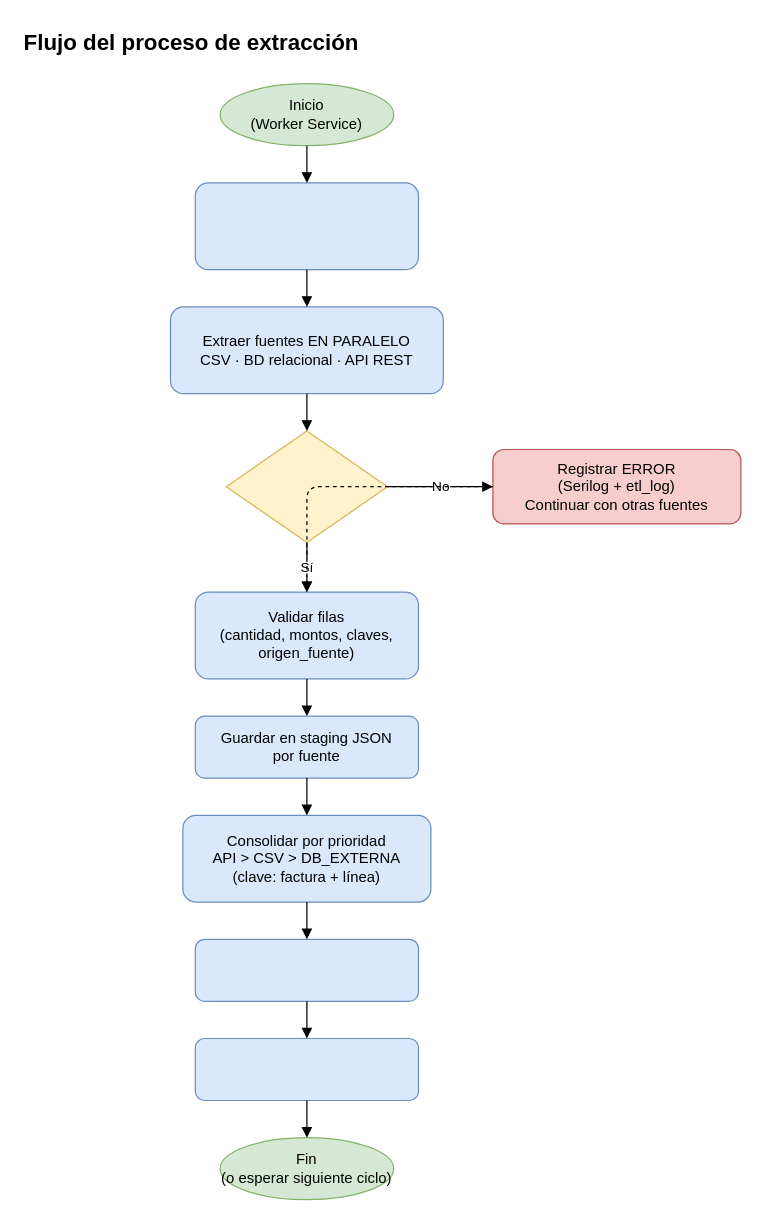
Some shapes in this 763 by 1221 pixel diagram are drawn without their labels. Each missing label, with the box of its shape:
Guardar staging consolidado: (194, 938, 418, 1001)
Leer configuración (appsettings + secretos) Fuentes habilitadas: (194, 182, 418, 270)
Registrar resultado (logs, etl_log, tiempos): (194, 1037, 418, 1100)
¿Extracción exitosa?: (225, 430, 388, 542)
